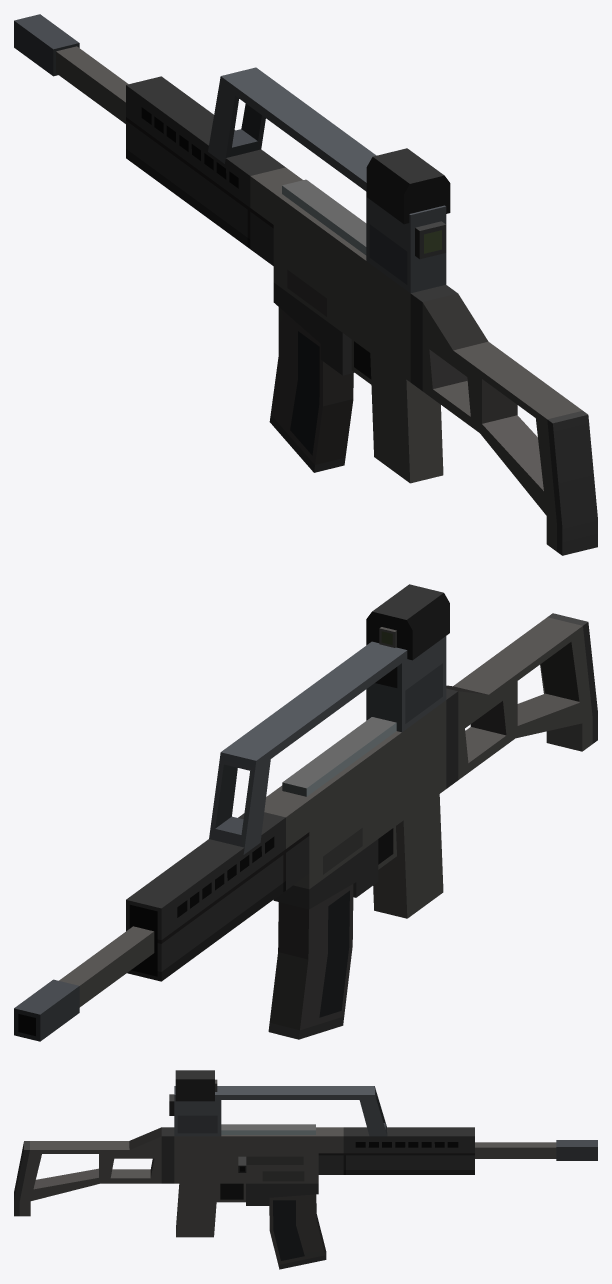
The model's file is Wep_GermanyRifle.fbx.
3 views of the same model, one above another, from view 1: azimuth 30°, elevation 25°; view 2: azimuth 150°, elevation 25°; view 3: azimuth 270°, elevation 25° (orthographic). The views are drawn at different scales.
Visible parts, largest first — view 1: Wep_GermanyRifle; view 2: Wep_GermanyRifle; view 3: Wep_GermanyRifle.
Boxes of the visible parts, x1,y1,x2,y2 form: Wep_GermanyRifle: (14, 14, 597, 555); Wep_GermanyRifle: (14, 584, 597, 1041); Wep_GermanyRifle: (14, 1070, 597, 1269).
Size of the model in its own units: 33.04 by 152 by 421.
